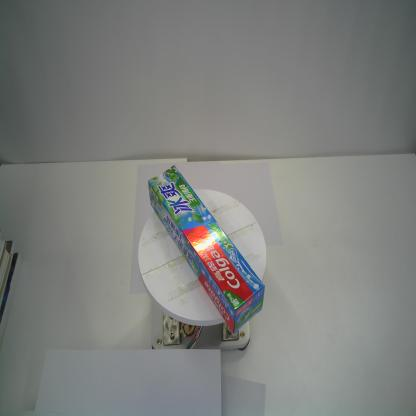Personal Hygiene: (148, 163, 266, 336)
